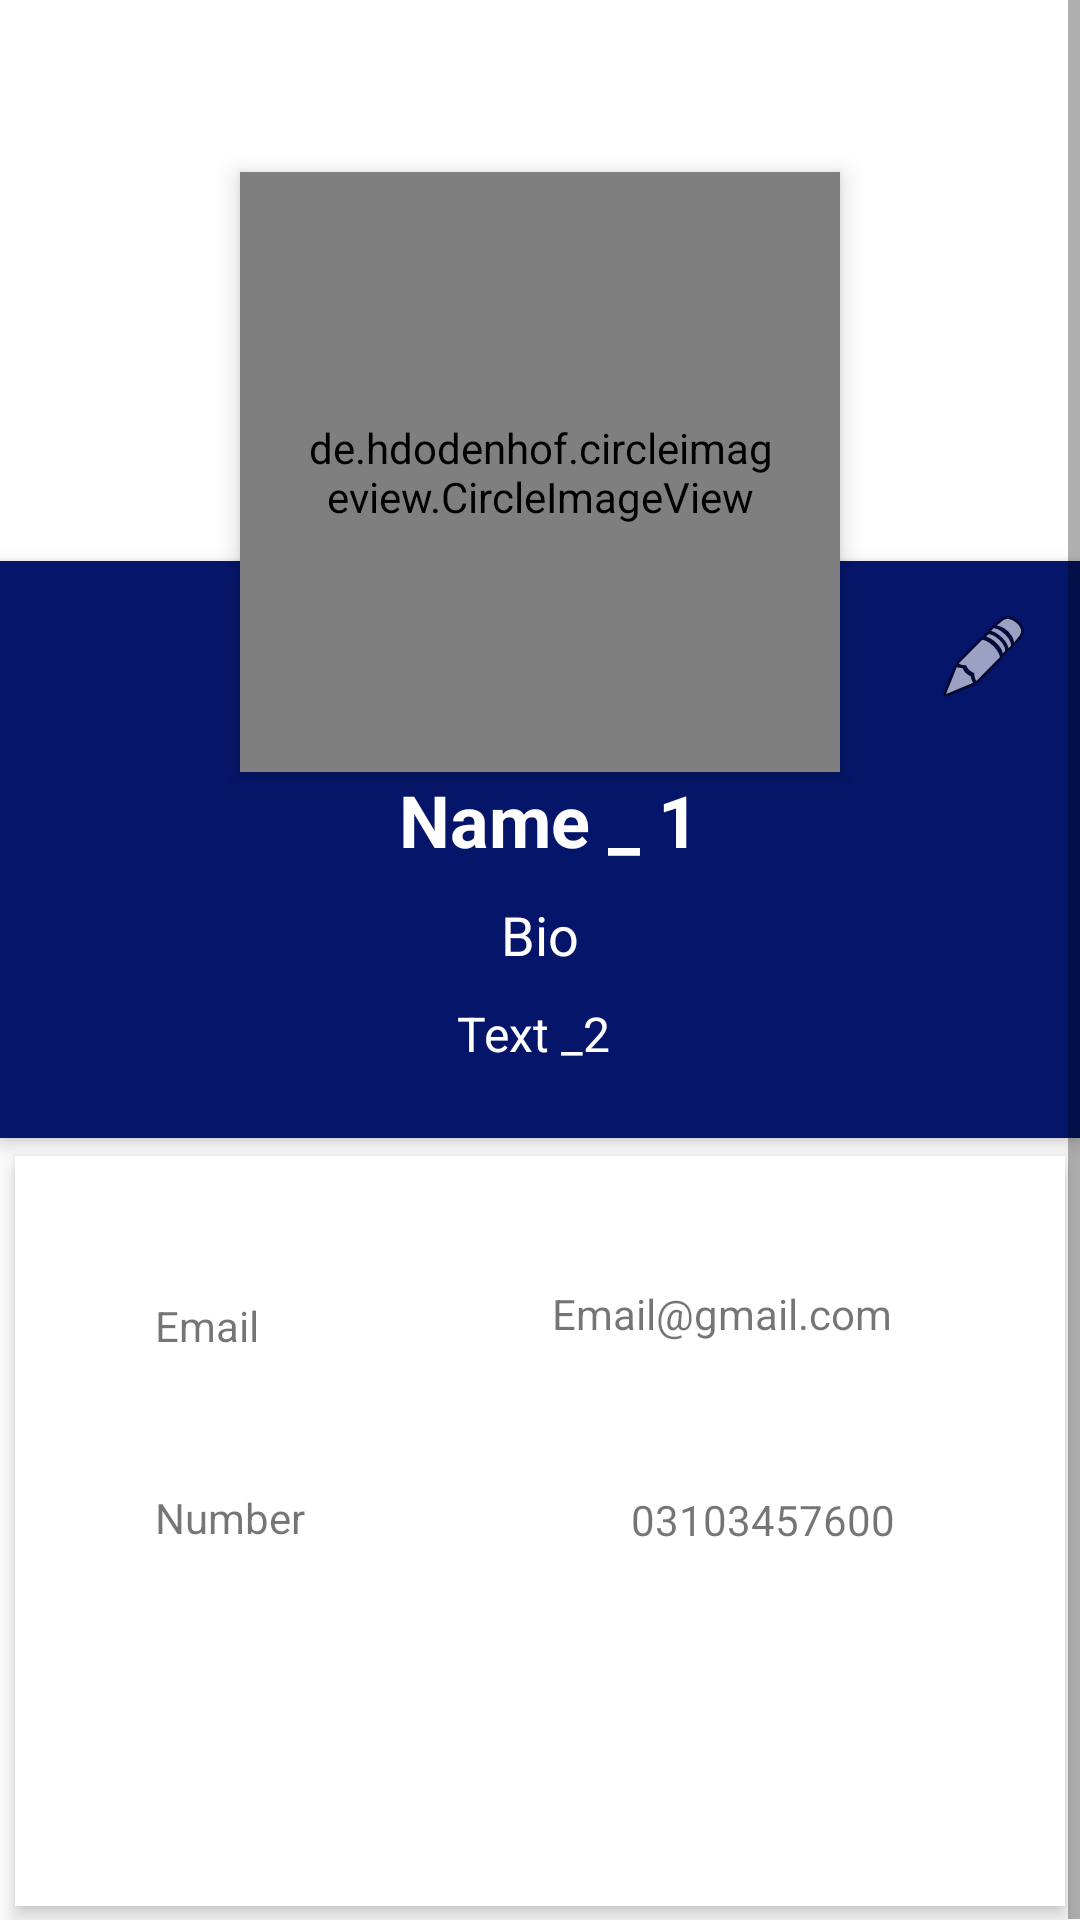

Where to tap for icons on this 1080w x 1920h app screen, as (x=x, y=y):
edit: (x=983, y=656)
